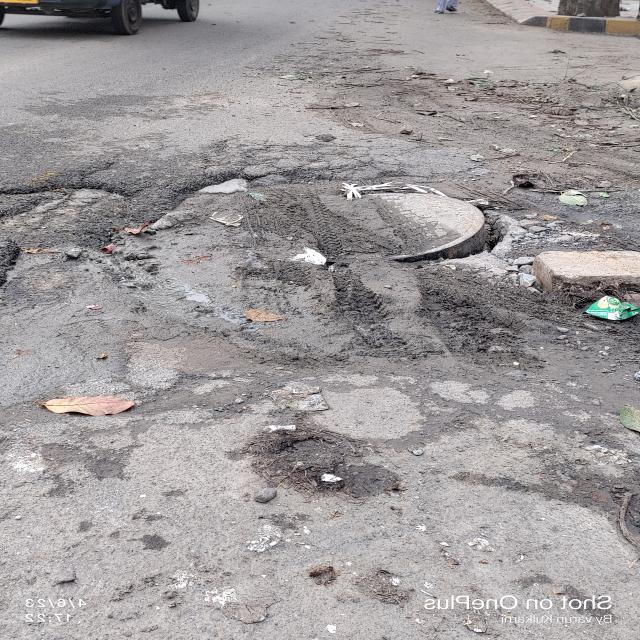potholes: (0, 175, 640, 362), (254, 430, 416, 498)
